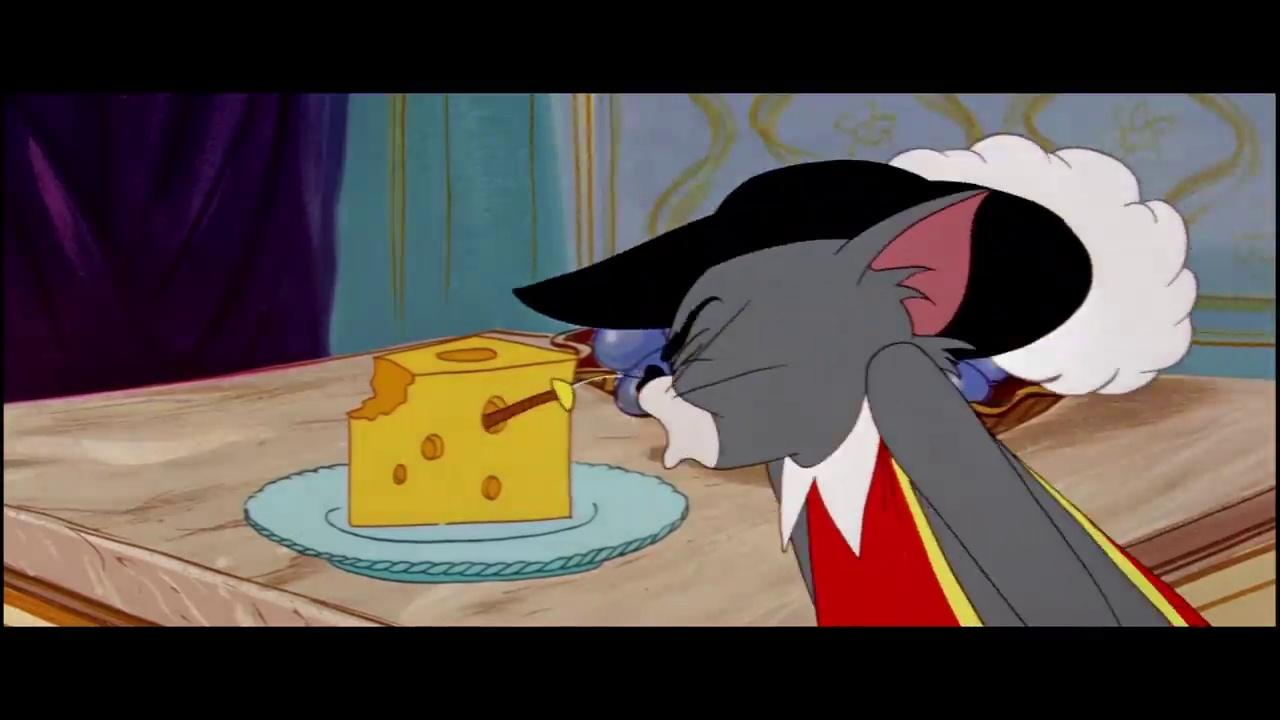Tom: (634, 186, 1178, 627)
